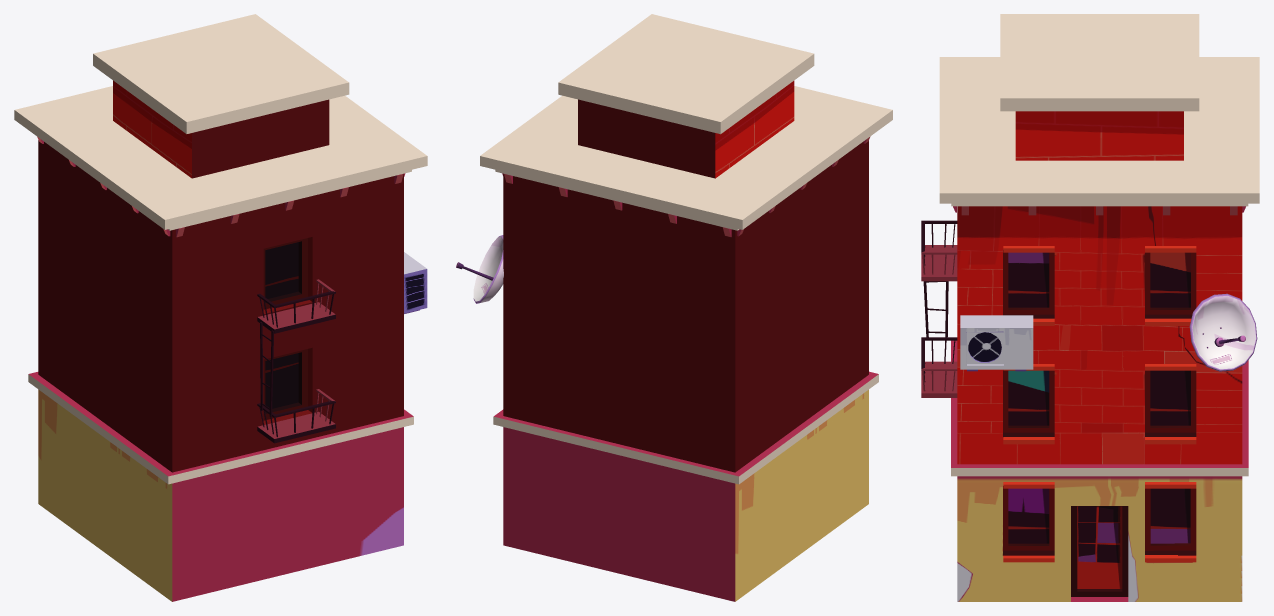
The picture shows the model from 3 angles, left to right: view 1: azimuth 30°, elevation 25°; view 2: azimuth 150°, elevation 25°; view 3: azimuth 270°, elevation 25°; orthographic projection. The views are drawn at different scales.
Parts seen in each view (by area): view 1: 1.001_Bina1_0; view 2: 1.001_Bina1_0; view 3: 1.001_Bina1_0.
Boxes of the visible parts, x1,y1,x2,y2 form: 1.001_Bina1_0: (14,14,427,601); 1.001_Bina1_0: (456,14,892,601); 1.001_Bina1_0: (921,14,1259,601).
Size of the model in its own units: 127 by 189 by 119.
